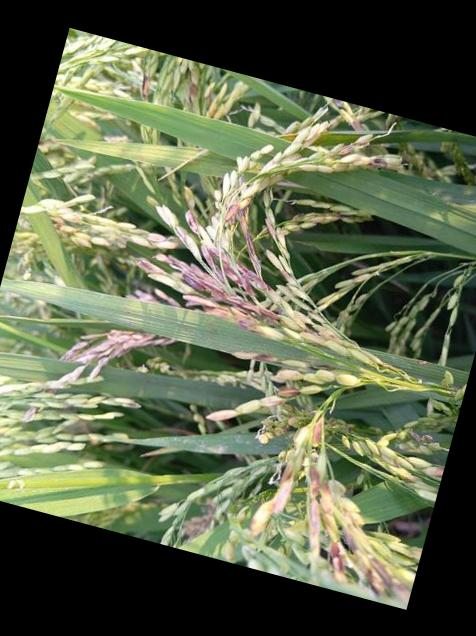Panicle Blight: (154, 243, 279, 329), (61, 328, 173, 377), (357, 542, 417, 607), (248, 458, 297, 537), (206, 386, 301, 421), (282, 312, 359, 353), (309, 465, 344, 548), (226, 202, 261, 277), (176, 69, 218, 116), (46, 213, 97, 245), (134, 256, 181, 286), (330, 132, 387, 153), (403, 430, 450, 453), (331, 97, 364, 128), (407, 455, 445, 479), (342, 515, 368, 549), (324, 538, 347, 575), (184, 200, 207, 236), (264, 412, 297, 434), (232, 348, 281, 362), (221, 531, 241, 559), (310, 416, 327, 448), (138, 73, 157, 101), (25, 406, 58, 418), (372, 152, 404, 163)
